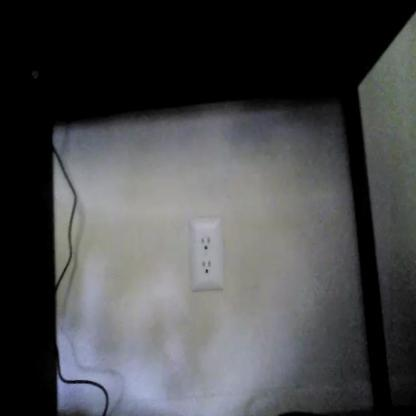OUTLET: (190, 217, 224, 292)
